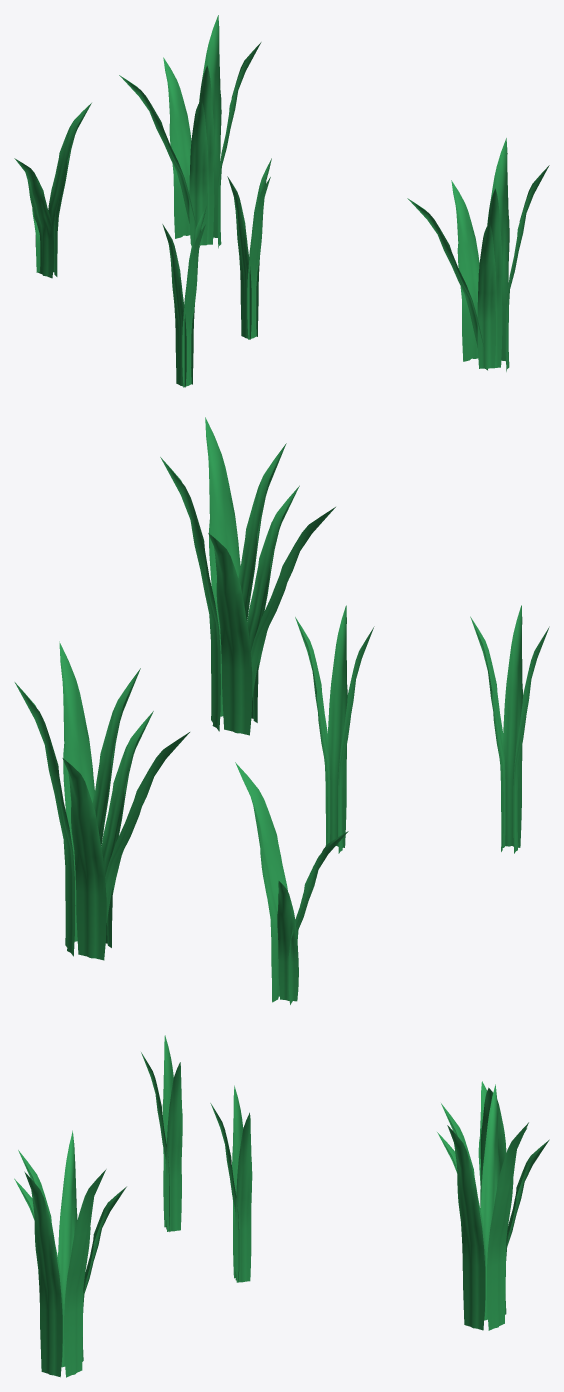
The model's file is grasspatch.fbx.
3 views of the same model, one above another, from view 1: azimuth 30°, elevation 25°; view 2: azimuth 150°, elevation 25°; view 3: azimuth 270°, elevation 25° (orthographic). The views are drawn at different scales.
Parts seen in each view (by area): view 1: grass, grass19, grass20, grass4, grass2, grass24, grass9, grass8, grass13, grass18, grass17, grass14 (+8 smaller); view 2: grass19, grass, grass17, grass3, grass22, grass14, grass8, grass24, grass2, grass20, grass4, grass7 (+9 smaller); view 3: grass3, grass22, grass24, grass2, grass15, grass16, grass23, grass6, grass18, grass13, grass8, grass19 (+5 smaller).
Part boxes in pixels (left/top/right/bottom): grass: left=163, top=57, right=191, bottom=238; grass19: left=451, top=180, right=479, bottom=361; grass20: left=477, top=223, right=495, bottom=368; grass4: left=189, top=100, right=207, bottom=245; grass2: left=199, top=15, right=221, bottom=237; grass24: left=487, top=138, right=509, bottom=361; grass9: left=14, top=158, right=53, bottom=278; grass8: left=48, top=103, right=91, bottom=276; grass13: left=227, top=176, right=251, bottom=339; grass18: left=162, top=224, right=186, bottom=387; grass17: left=182, top=224, right=205, bottom=387; grass14: left=247, top=177, right=270, bottom=339; grass19: left=208, top=533, right=252, bottom=735; grass: left=62, top=758, right=106, bottom=960; grass17: left=502, top=605, right=522, bottom=847; grass3: left=59, top=641, right=94, bottom=941; grass22: left=205, top=417, right=240, bottom=716; grass14: left=327, top=605, right=347, bottom=847; grass8: left=235, top=762, right=287, bottom=1002; grass24: left=160, top=457, right=220, bottom=731; grass2: left=14, top=682, right=75, bottom=956; grass20: left=247, top=485, right=299, bottom=722; grass4: left=101, top=711, right=153, bottom=947; grass7: left=277, top=881, right=298, bottom=1001; grass3: left=447, top=1125, right=485, bottom=1330; grass22: left=24, top=1171, right=62, bottom=1377; grass24: left=64, top=1169, right=106, bottom=1377; grass2: left=487, top=1122, right=528, bottom=1330; grass15: left=235, top=1112, right=252, bottom=1282; grass16: left=165, top=1062, right=182, bottom=1231; grass23: left=58, top=1130, right=77, bottom=1367; grass6: left=480, top=1084, right=499, bottom=1320; grass18: left=162, top=1035, right=173, bottom=1227; grass13: left=232, top=1085, right=243, bottom=1278; grass8: left=480, top=1087, right=506, bottom=1205; grass19: left=82, top=1186, right=126, bottom=1361.
Bounding box in the file's own units: 6.83 × 4.18 × 9.23.
